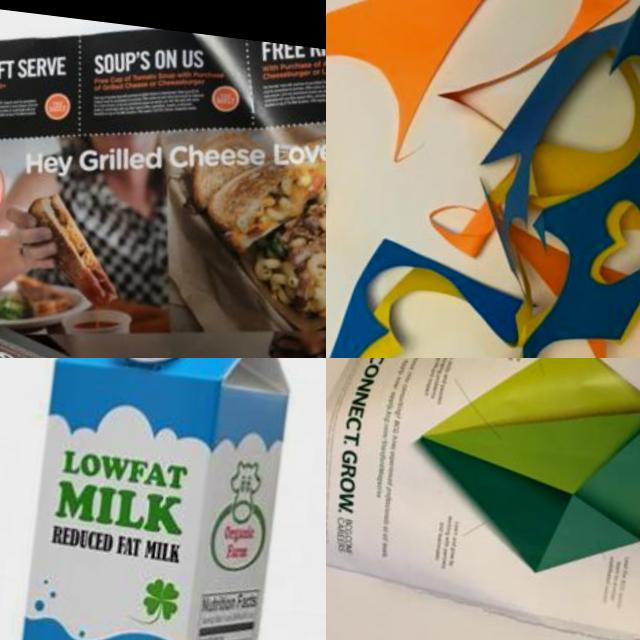caixinha: (0, 358, 304, 640)
papel: (0, 9, 326, 358), (326, 0, 640, 358), (326, 358, 640, 640)
